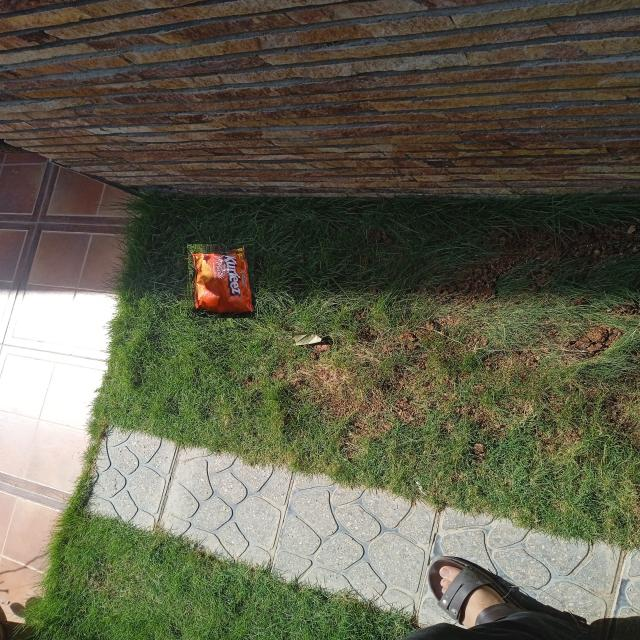Plastic: (185, 246, 255, 317)
